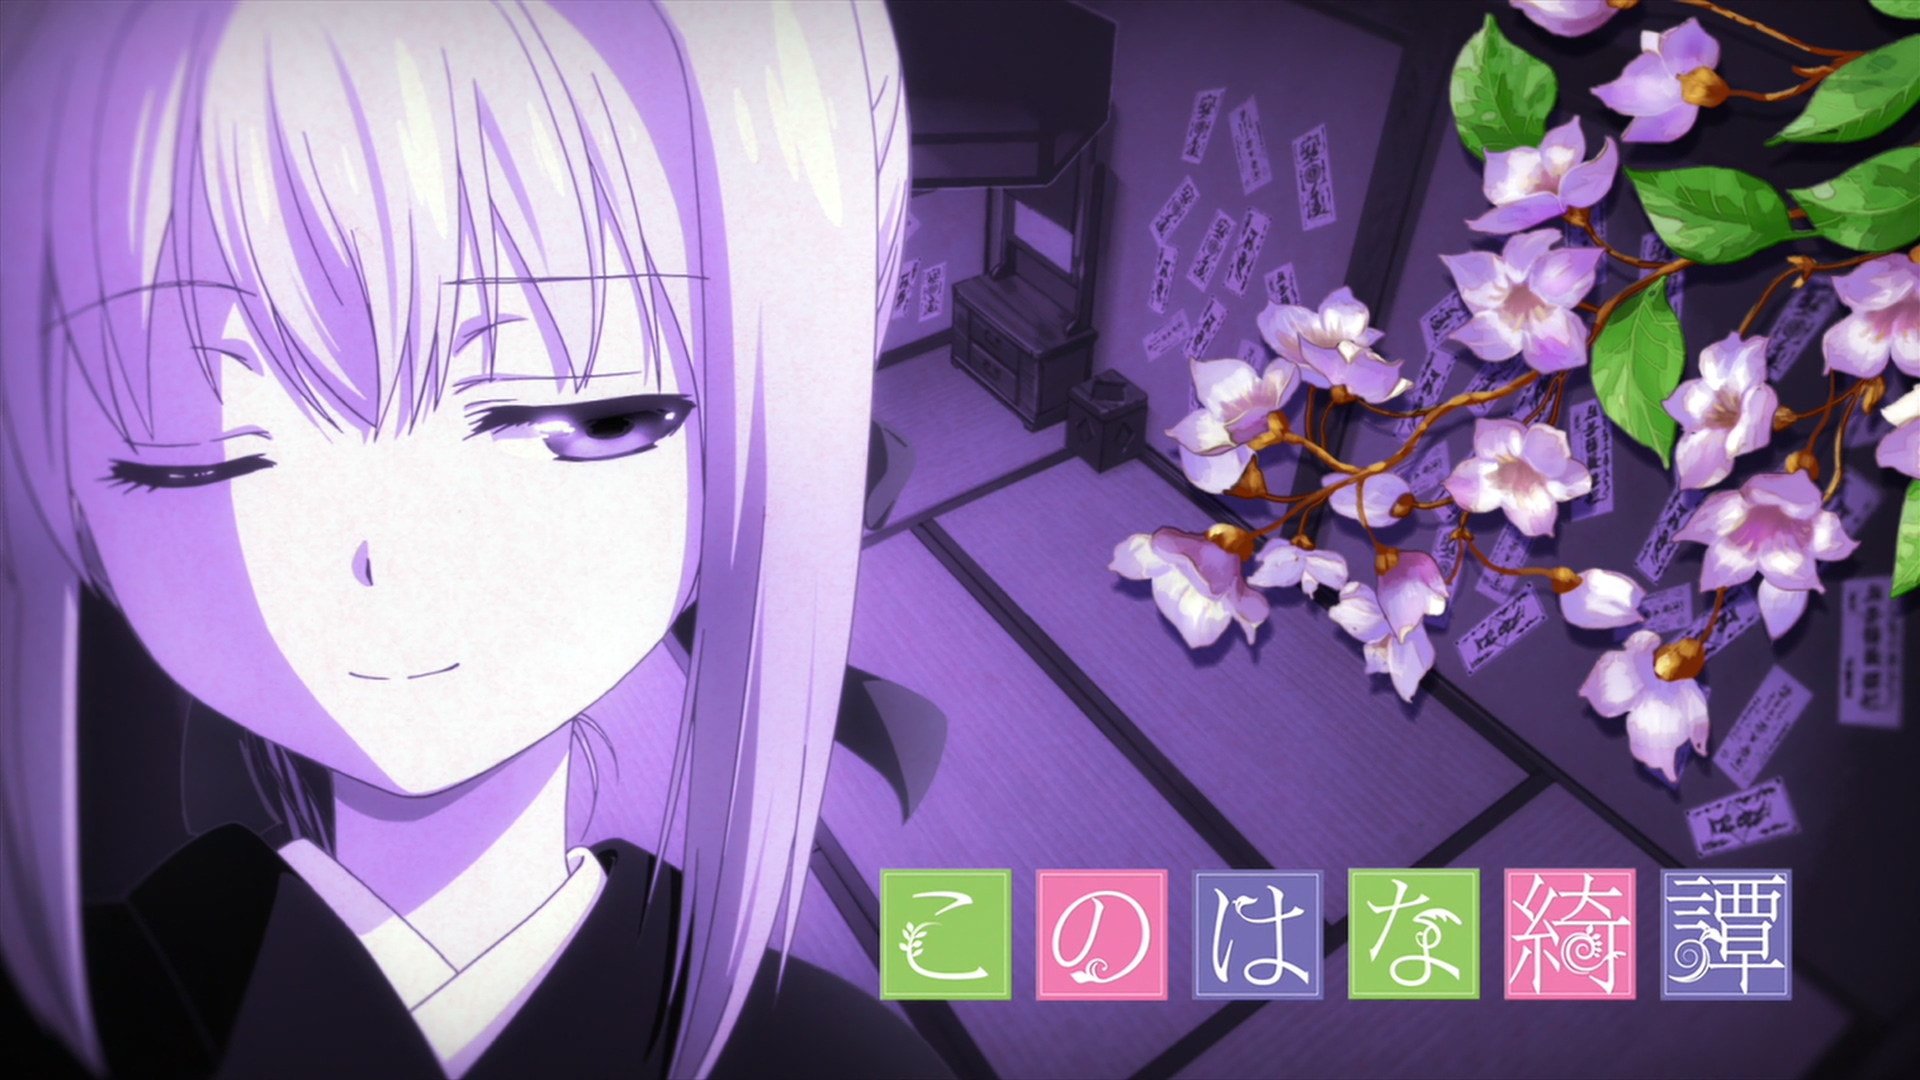桐: (1, 1, 948, 1080)
